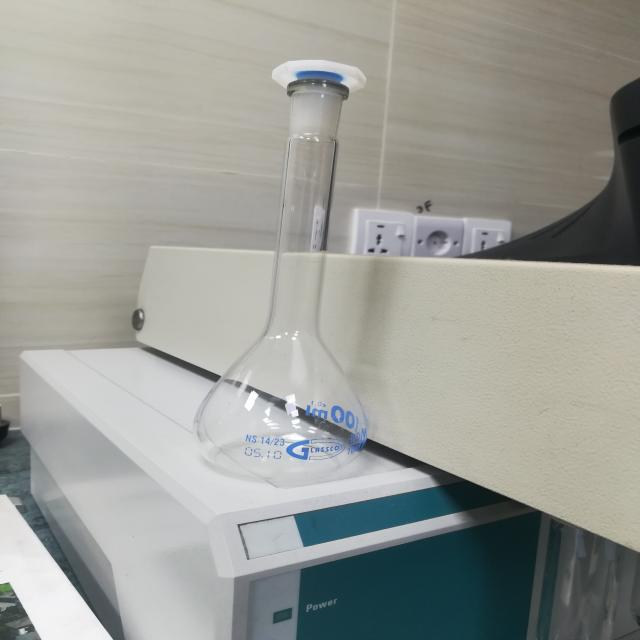Volumetric_Flask: (177, 8, 421, 488)
